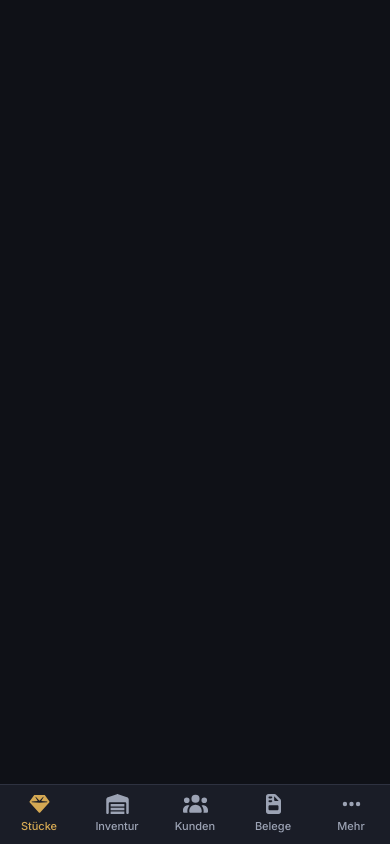
MobileTabBar › Mehr-Sheet › schließt per Klick daneben
The width and height of the screenshot is (390, 844).
Click the button "Mehr" at (351, 814), box [312, 785, 389, 843]
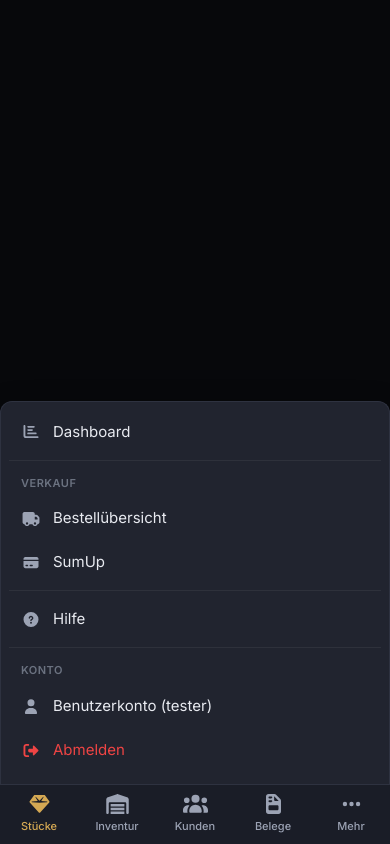
Click the element with test id "mobile-tabbar-backdrop" at (195, 51), box [0, 0, 389, 843]
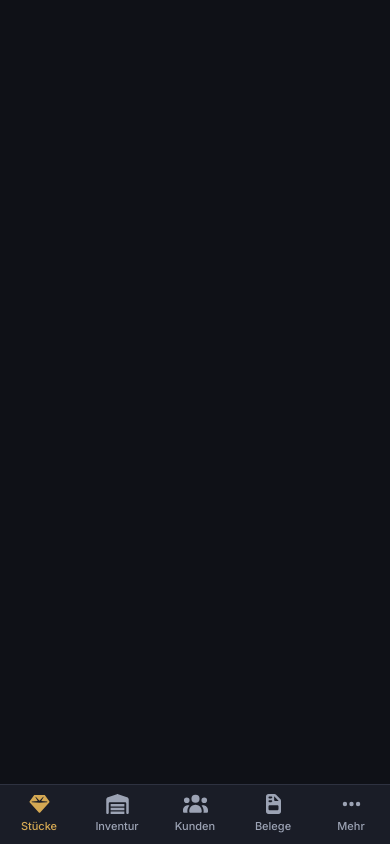
Result: the dialog is gone
